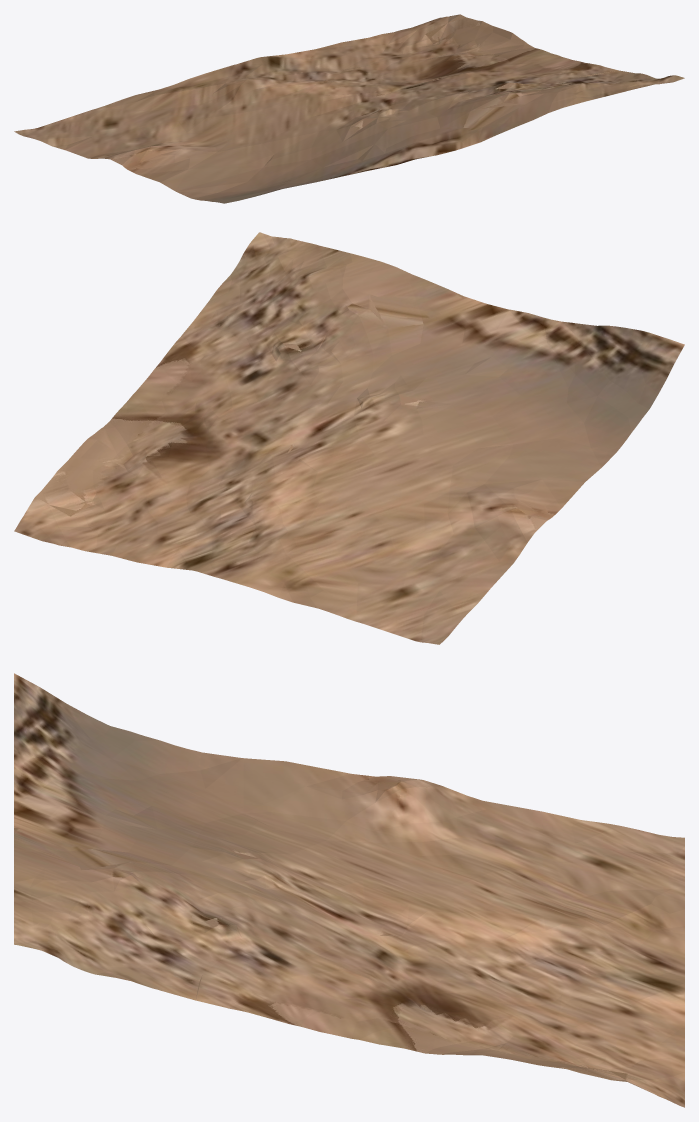
3 renders of one model, top to bottom at view 1: azimuth 30°, elevation 25°; view 2: azimuth 150°, elevation 25°; view 3: azimuth 270°, elevation 25°, orthographic. The views are drawn at different scales.
Size of the model in its own units: 1.04 by 0.3114 by 1.04.
Materials: 2 (2 with a texture image).
